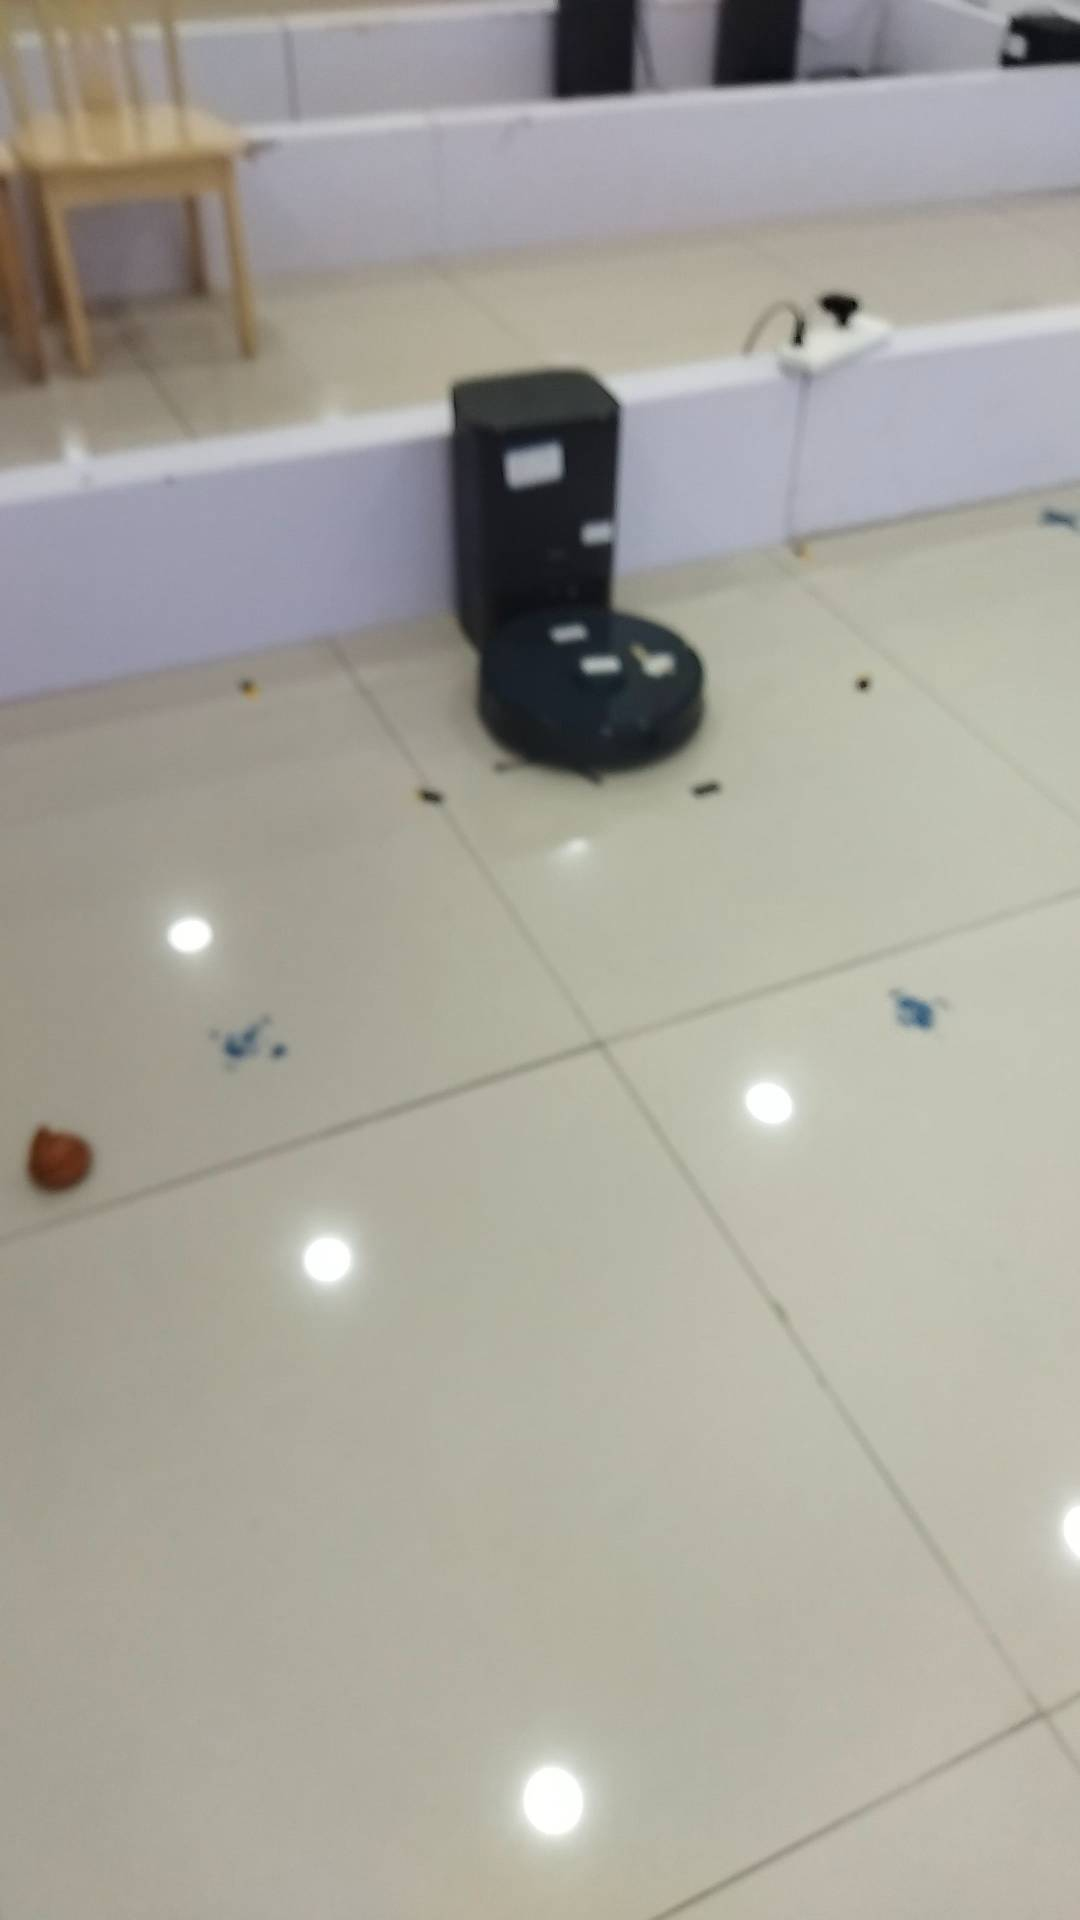dust collecting barrel: (448, 363, 620, 650)
